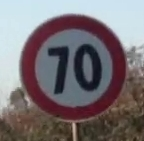limite 70: (19, 13, 128, 121)
